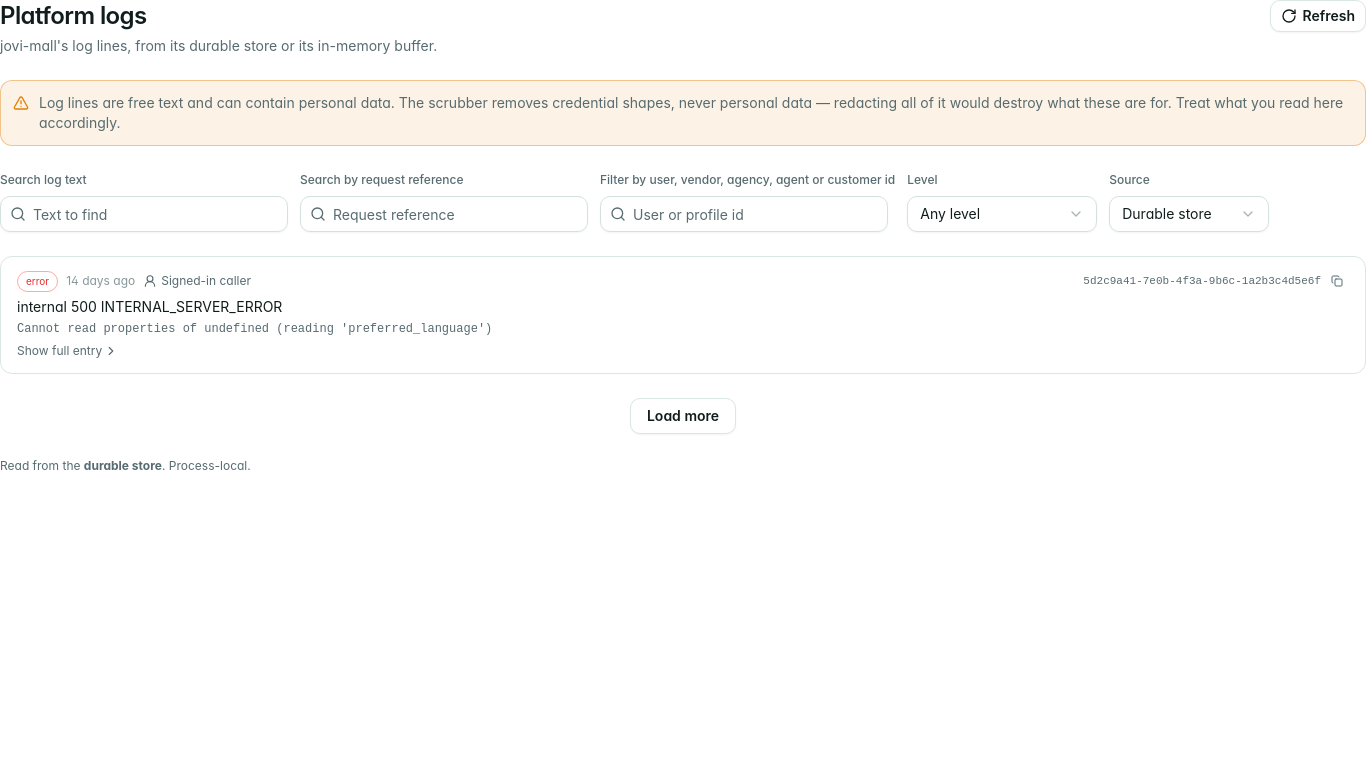
Scenario: Platform logs › opens the whole entry on a click
This screenshot has width=1366, height=768.
Click the button named "show full entry": (150,306) left=17, top=297, right=1349, bottom=361
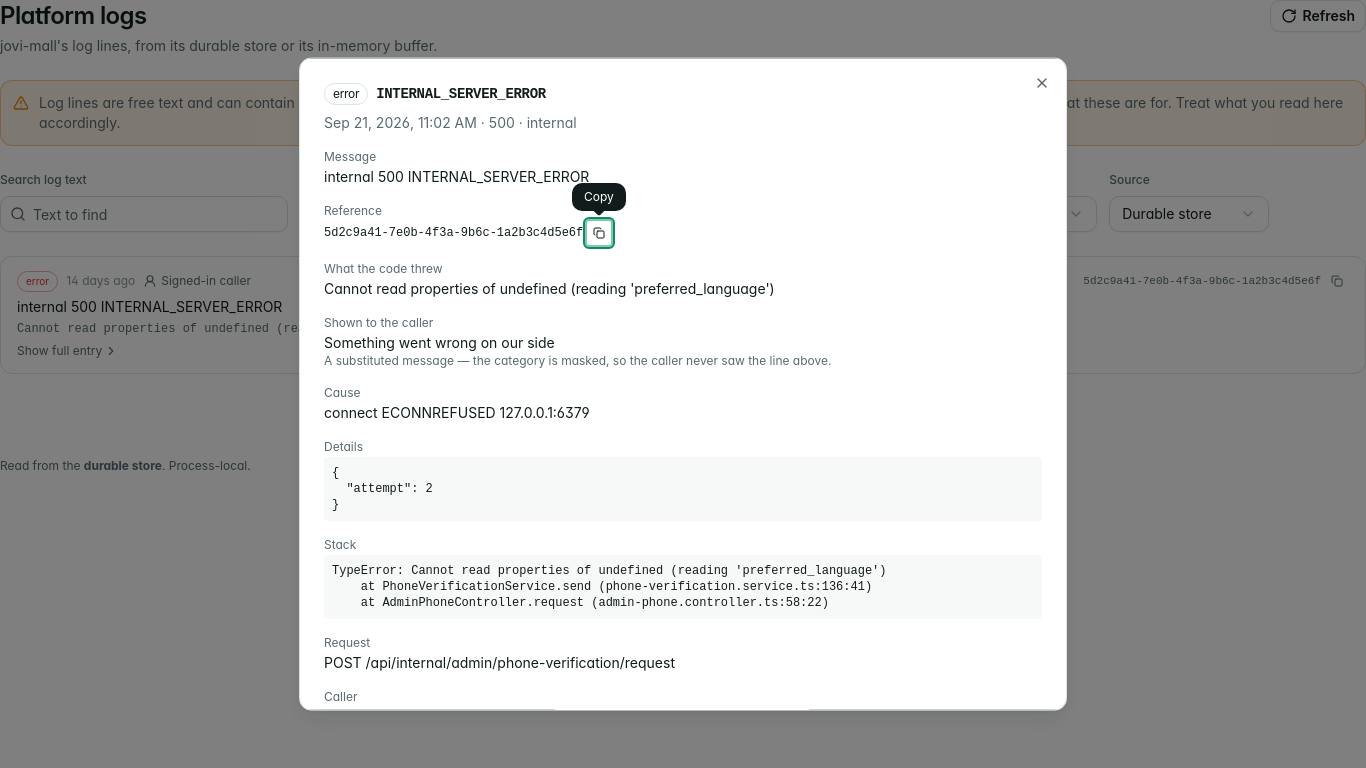
Result: the text "What the code threw" is shown at left=324, top=261, right=443, bottom=276
Result: the text "connect ECONNREFUSED 127.0.0.1:6379" is shown at left=324, top=404, right=590, bottom=421
Result: the text "phone-verification.service.ts:136:41" is shown at left=332, top=564, right=886, bottom=610
